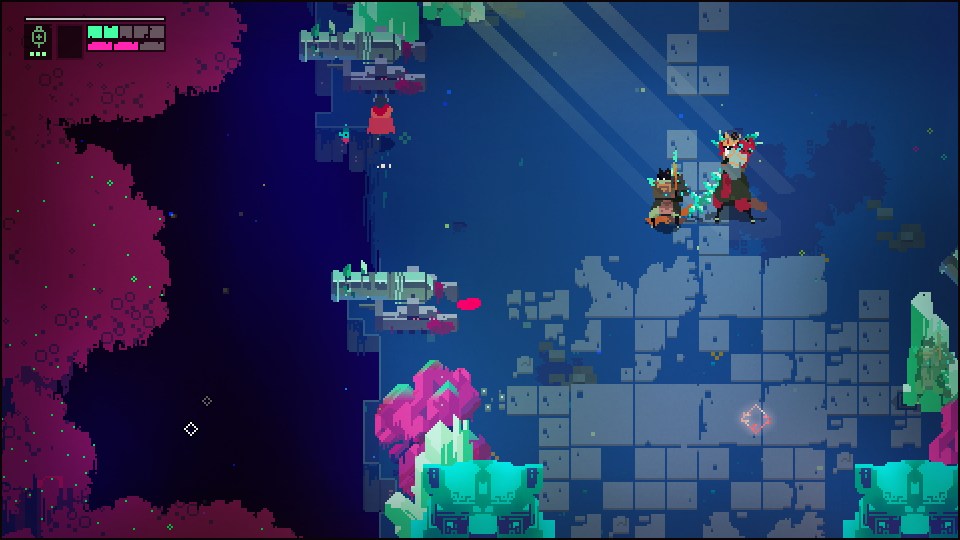hanged_man: (687, 128, 756, 217)
player: (369, 92, 395, 144)
